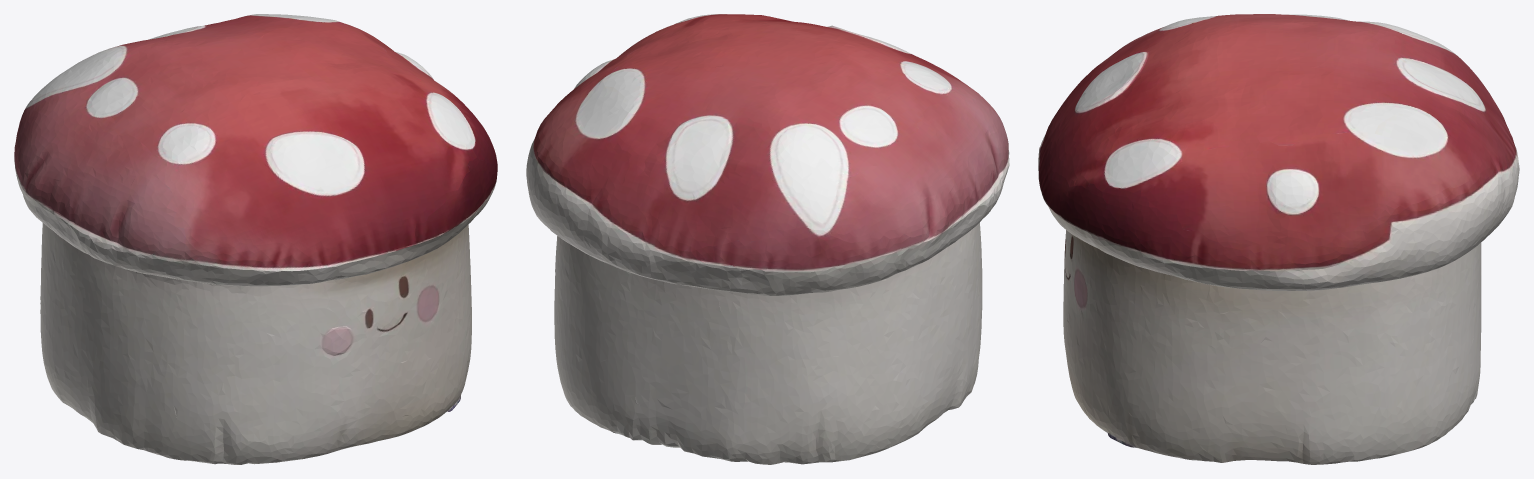
Rendered from ast_f090666d70fe.glb.
The picture shows the model from 3 angles, left to right: view 1: azimuth 30°, elevation 25°; view 2: azimuth 150°, elevation 25°; view 3: azimuth 270°, elevation 25°; orthographic projection. The views are drawn at different scales.
Visible parts, largest first — view 1: geometry_0; view 2: geometry_0; view 3: geometry_0.
Boxes of the visible parts, x1,y1,x2,y2 form: geometry_0: (14,14,497,464); geometry_0: (526,14,1009,464); geometry_0: (1038,14,1519,464).
Bounding box in the file's own units: 0.9856 × 0.7647 × 0.9993.
Materials: 1 (1 with a texture image).
